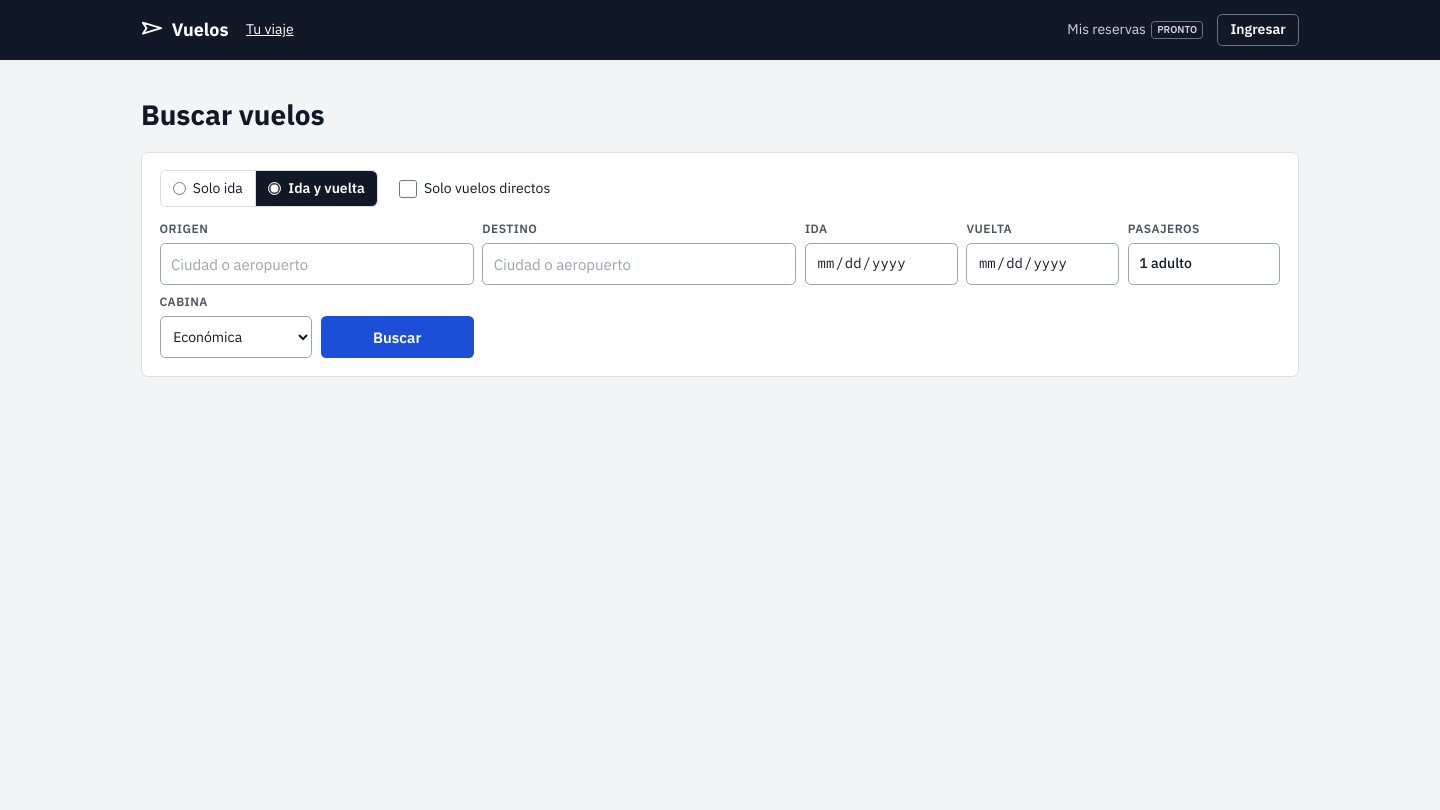
Test case: search form › books one adult for now
Click the button named "Pasajeros": (1204, 264) [1128,243,1280,285]
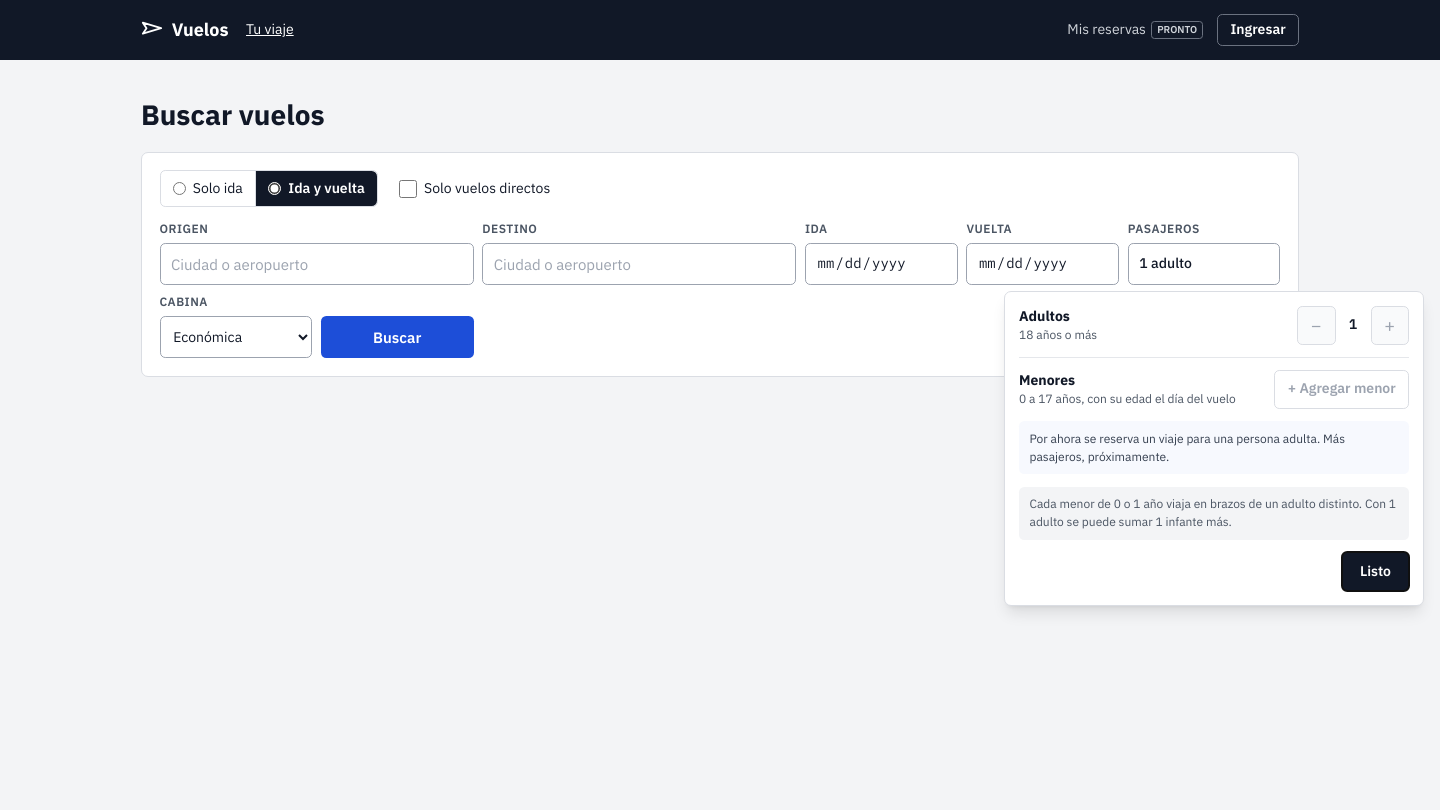
Expected: the button named "Agregar adulto" is disabled, [1370,306,1409,344]
Now the button "+ Agregar menor" is disabled, box [1274,370,1409,408]
Now the text "Más pasajeros, próximamente" is shown, box [1030,430,1345,464]
